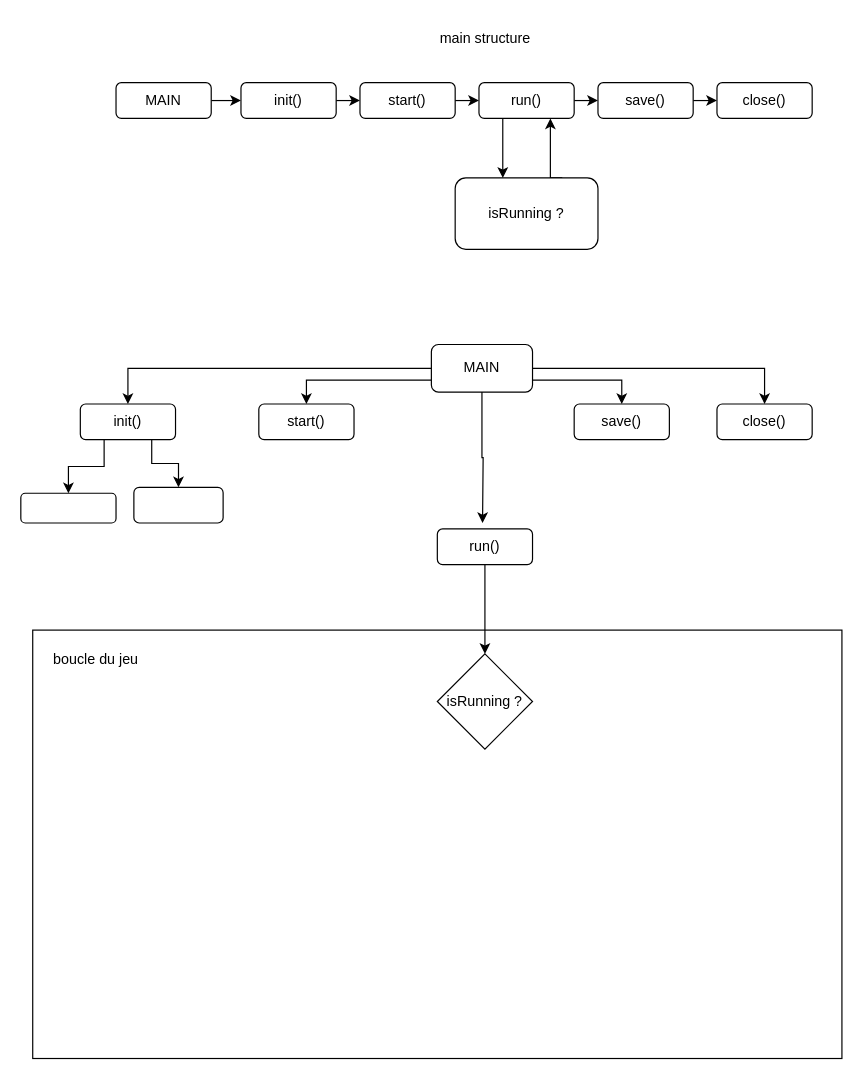
Image size: 863x1079. Some labels were removed from this diagram. The shapes that lost their labels are listed below. From the top down, each one's centre as x and y in pixels, then its label:
(x=68, y=507): wordlist
(x=178, y=504): hangman
